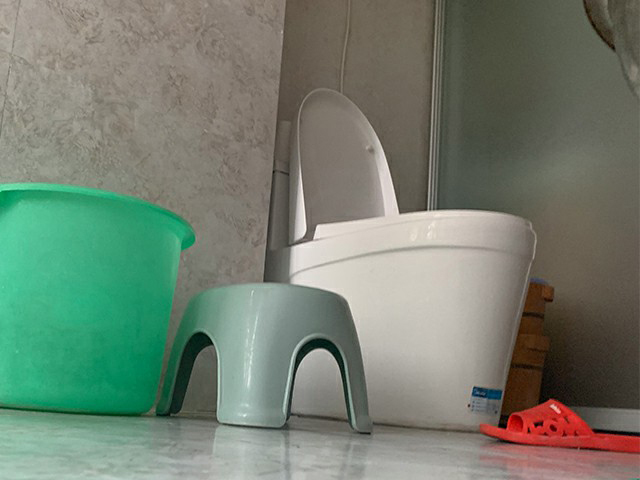closestool: (263, 87, 536, 433)
slippers: (479, 399, 640, 457)
stool: (156, 282, 374, 437)
